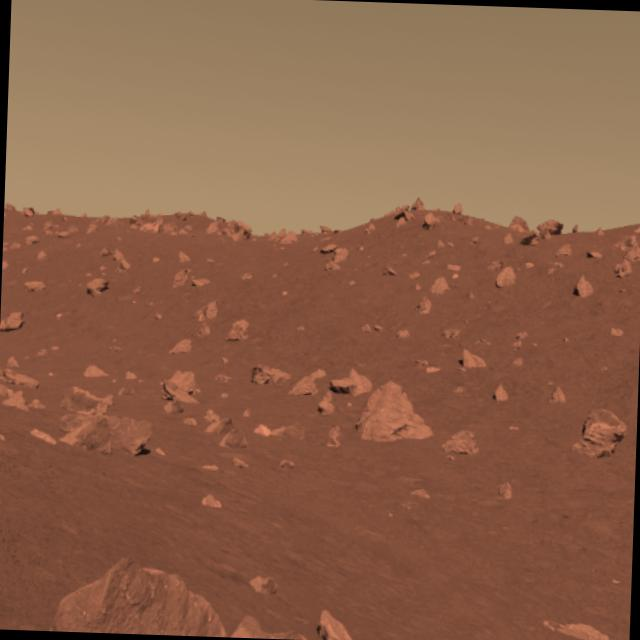rock: (48, 545, 230, 637), (346, 373, 436, 448), (60, 397, 154, 468), (569, 404, 629, 464), (158, 364, 204, 410), (308, 601, 353, 640), (329, 367, 376, 398), (250, 362, 290, 386), (0, 306, 27, 339), (460, 346, 488, 372), (84, 274, 113, 298), (224, 318, 250, 340), (492, 265, 518, 287)
